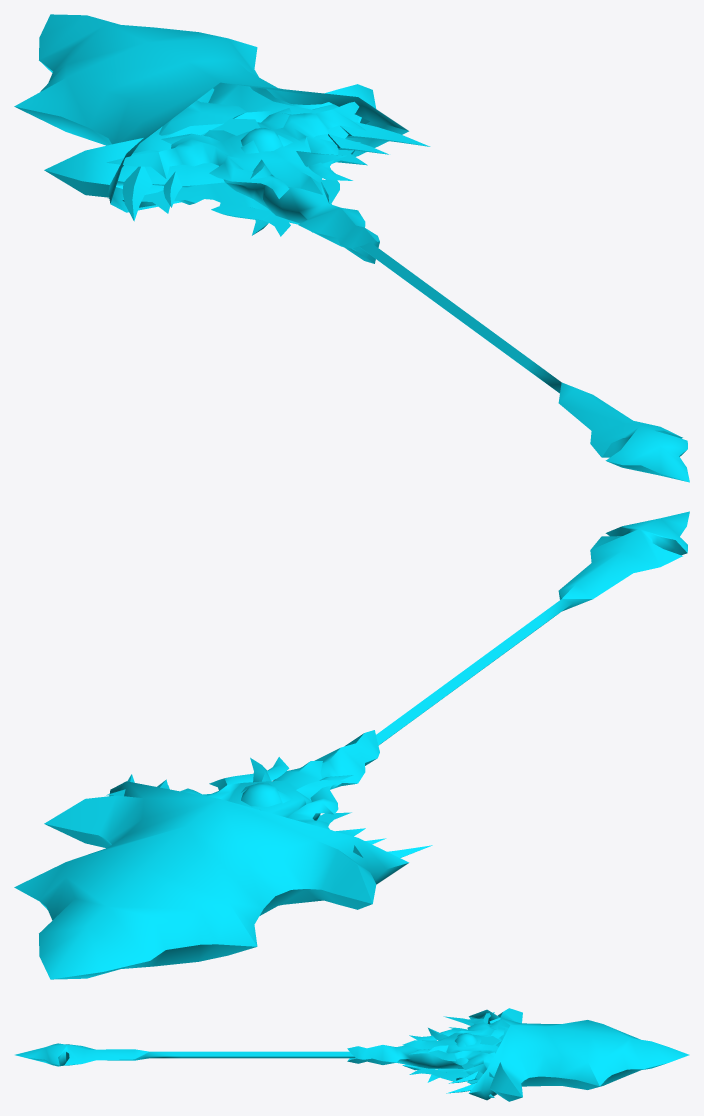
File: efx_scm_silver_wand_e_w_eff.glb
The picture shows the model from 3 angles, top to bottom: view 1: azimuth 30°, elevation 25°; view 2: azimuth 150°, elevation 25°; view 3: azimuth 270°, elevation 25°; orthographic projection. The views are drawn at different scales.
Size of the model in its own units: 0.7368 by 0.2407 by 2.48.
